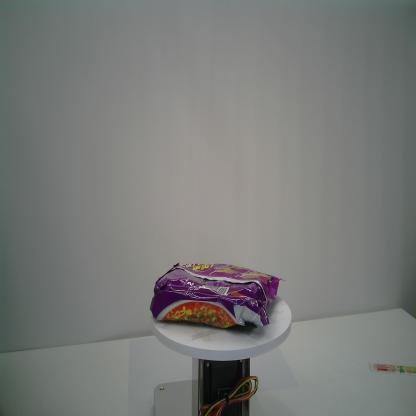Instant Noodles: (149, 261, 287, 331)
